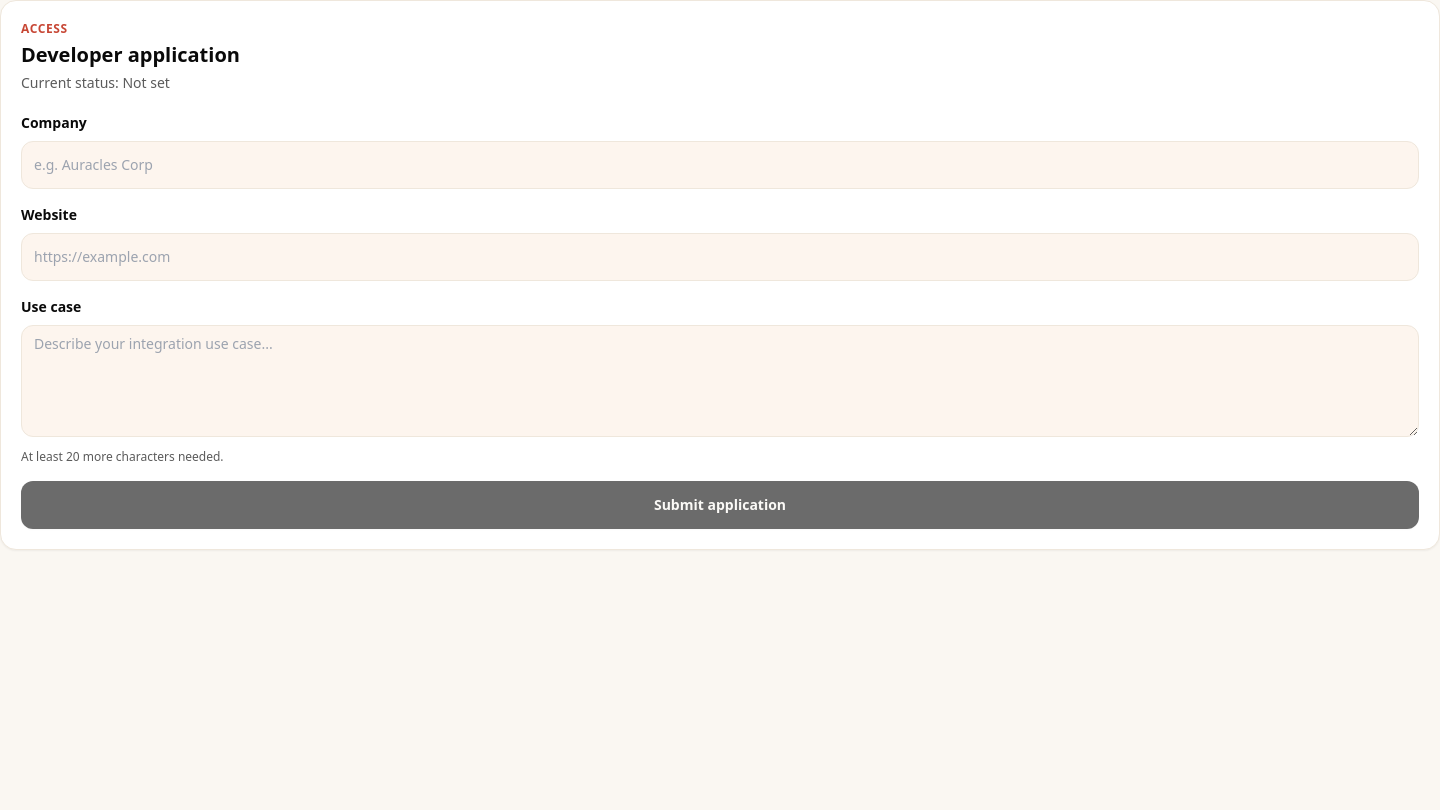
Scenario: ApplicationPanel › rejects a malformed website but allows an empty optional website
The image size is (1440, 810).
Type "Partner Systems Inc." into the field labelled "Company" at (720, 165), box [21,141,1419,189]
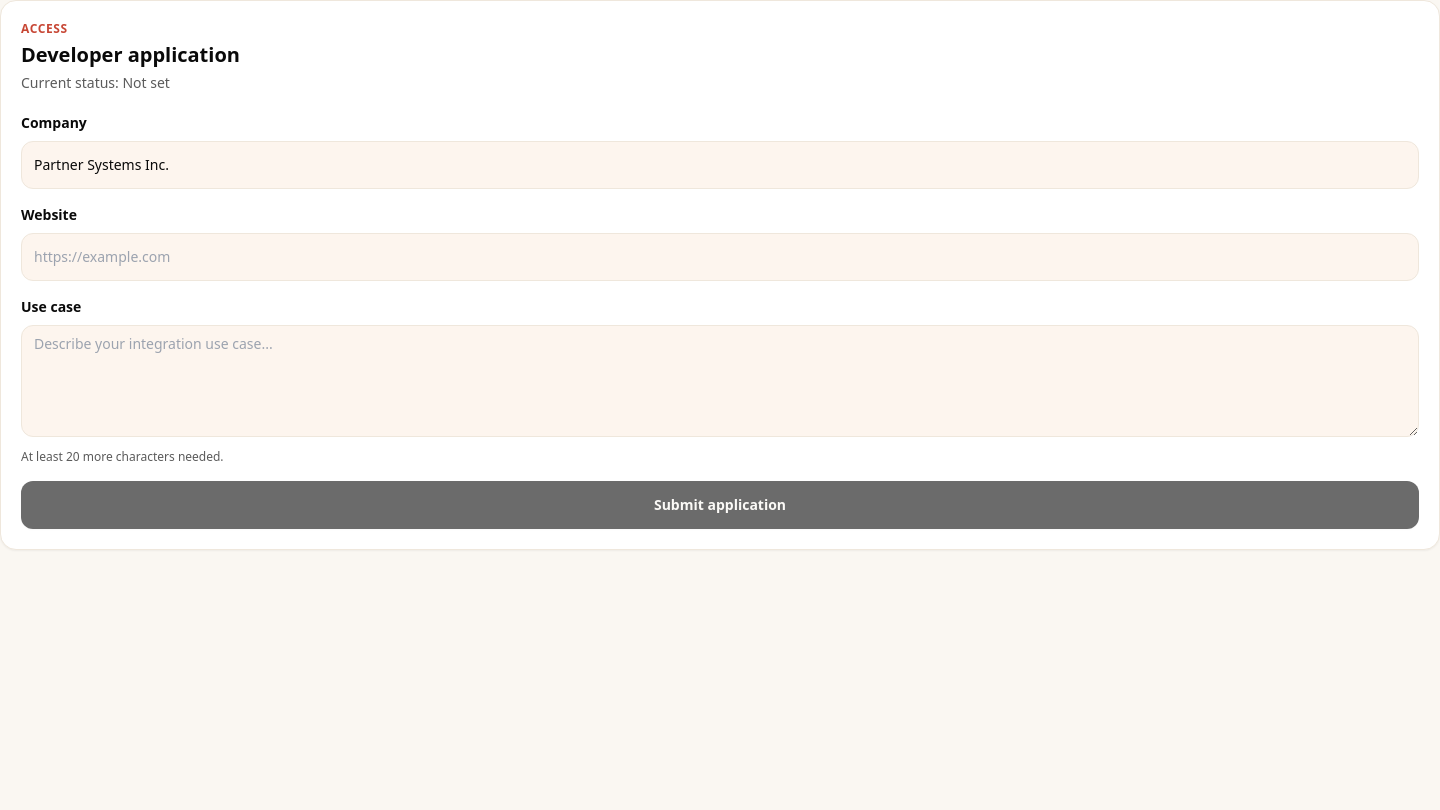
Type "Embed Framework discovery in a CRM." into the text box labelled "Use case" at (720, 381), box [21,325,1419,437]
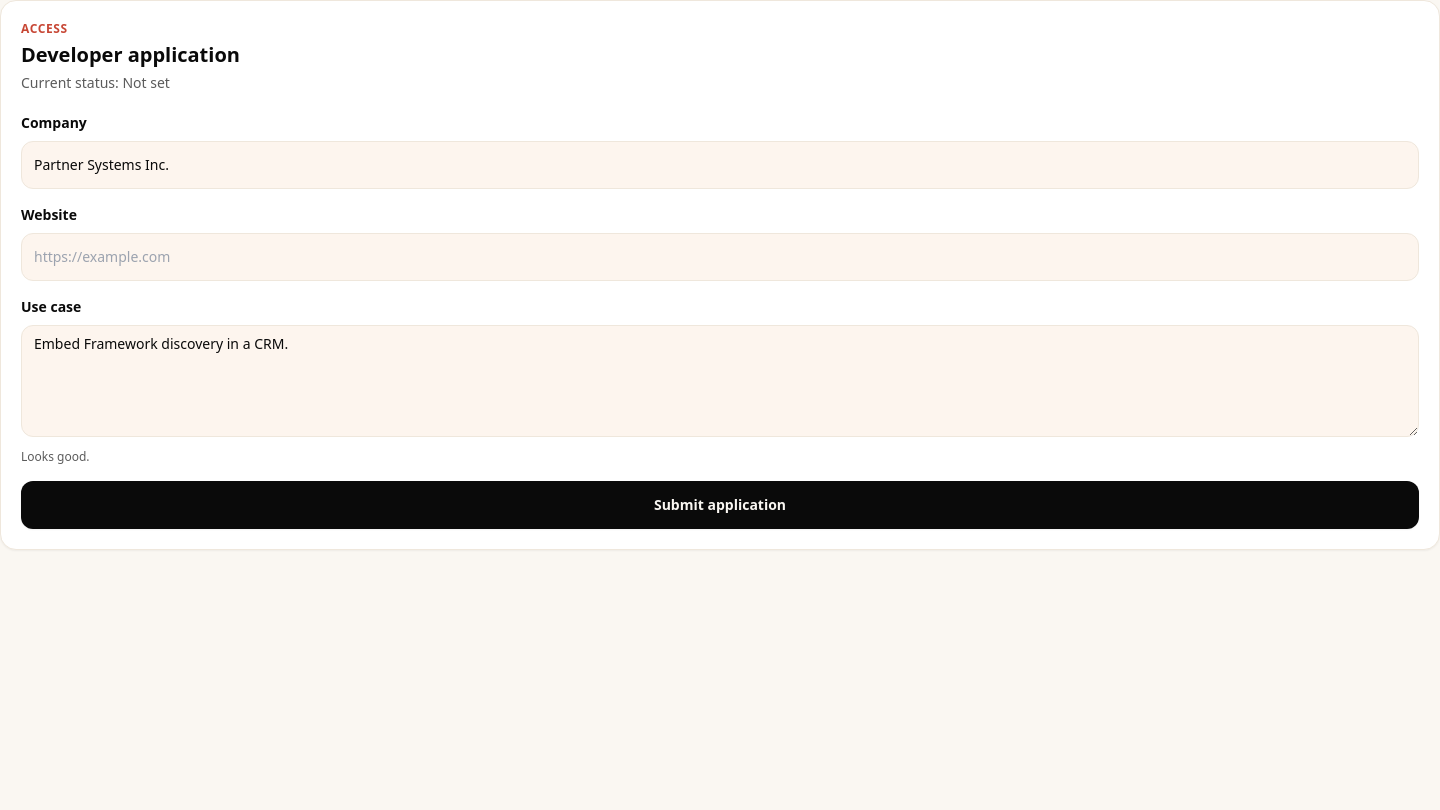
Expected: the button "Submit application" is enabled, [21,481,1419,529]
Type "not-a-url" into the field labelled "Website" at (720, 257), box [21,233,1419,281]
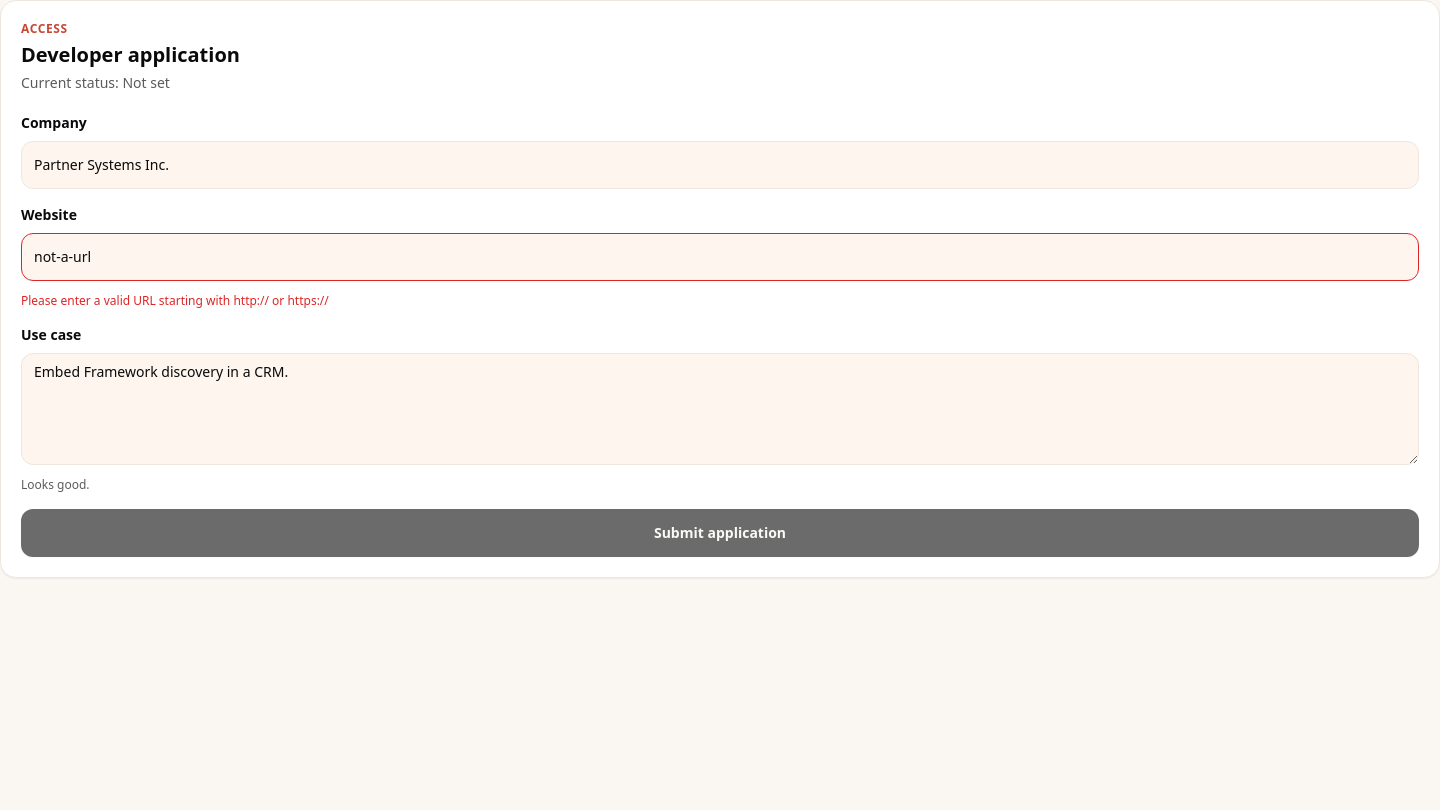
Expected: the button "Submit application" is disabled, [21,509,1419,557]
Replace the text in the field labelled "Website" with "https://partners.example.com" at (720, 257), box [21,233,1419,281]
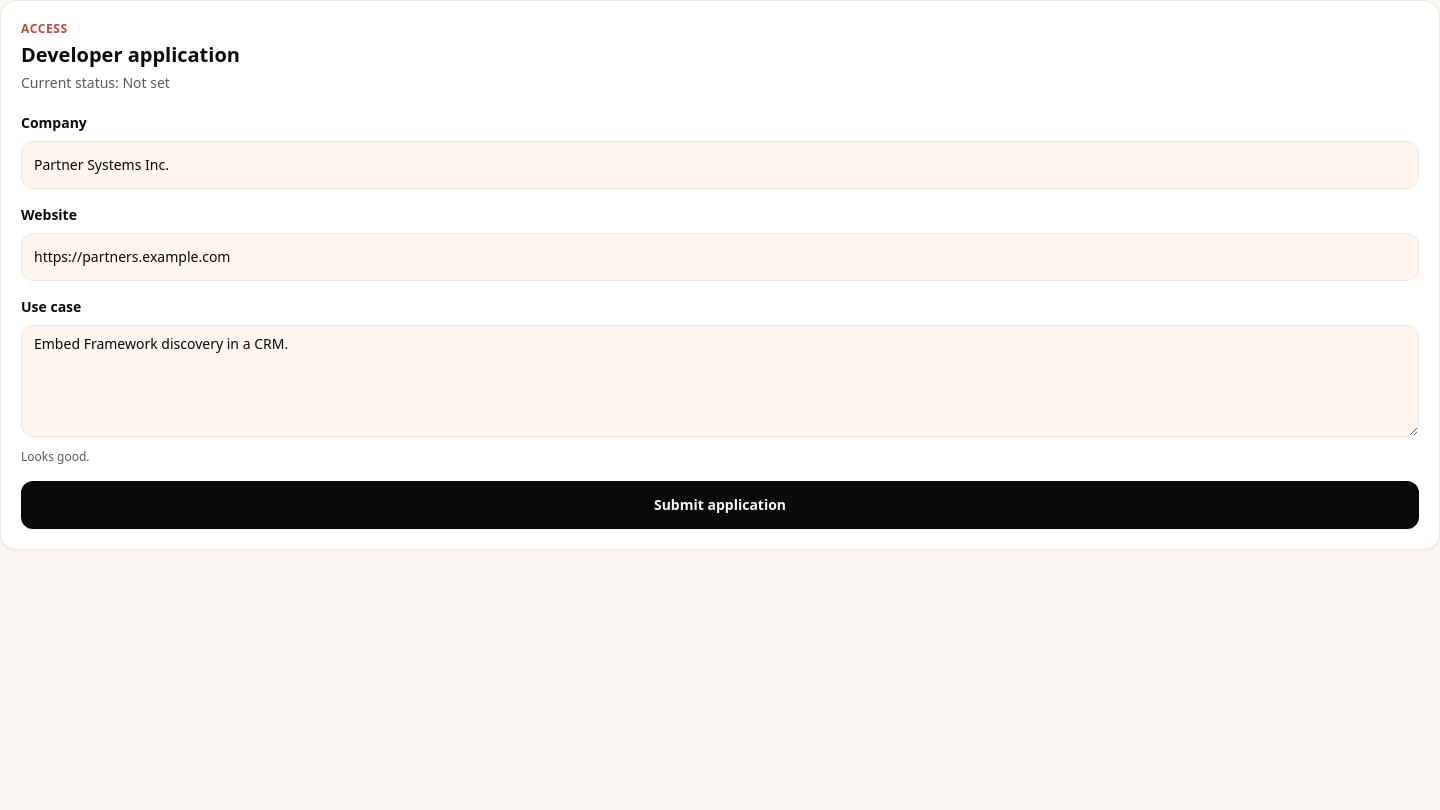
Expected: the button "Submit application" is enabled, [21,481,1419,529]
